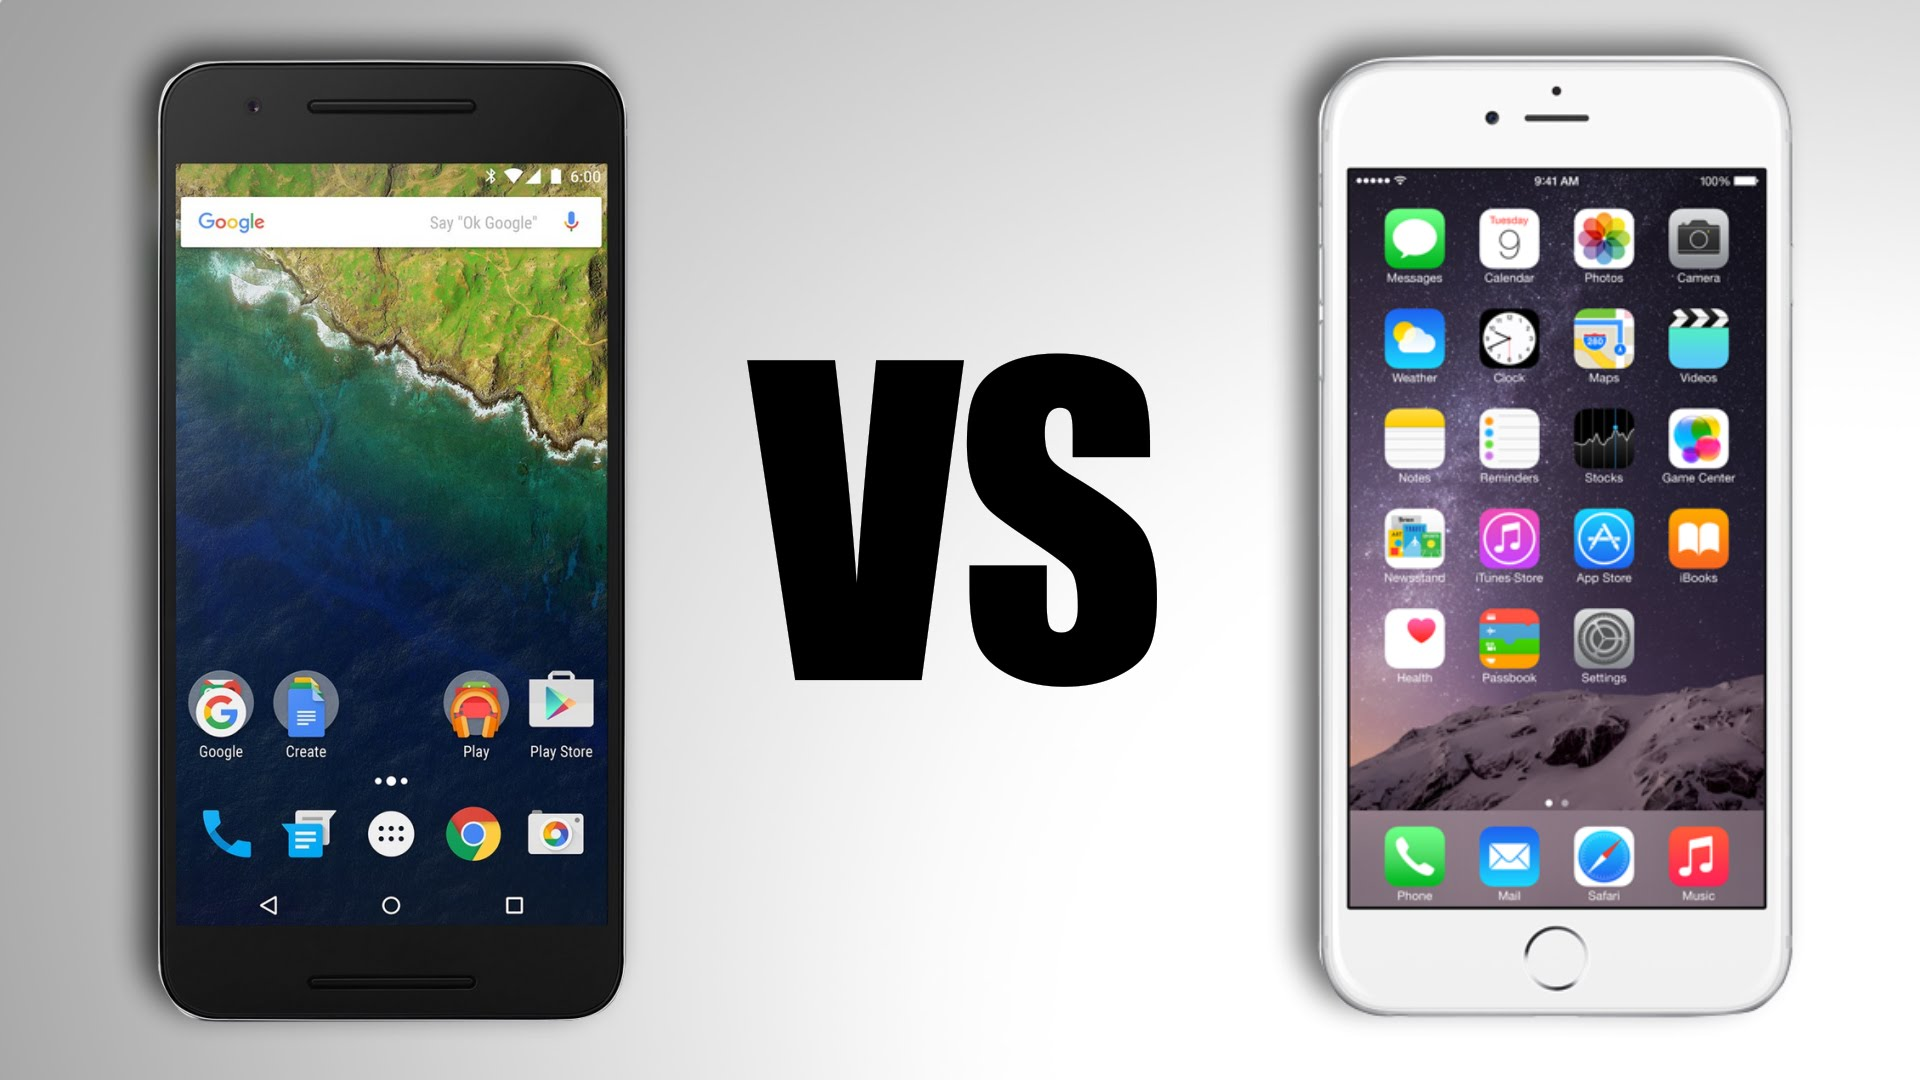smartphone: (1315, 54, 1793, 1015), (160, 58, 628, 1021)
